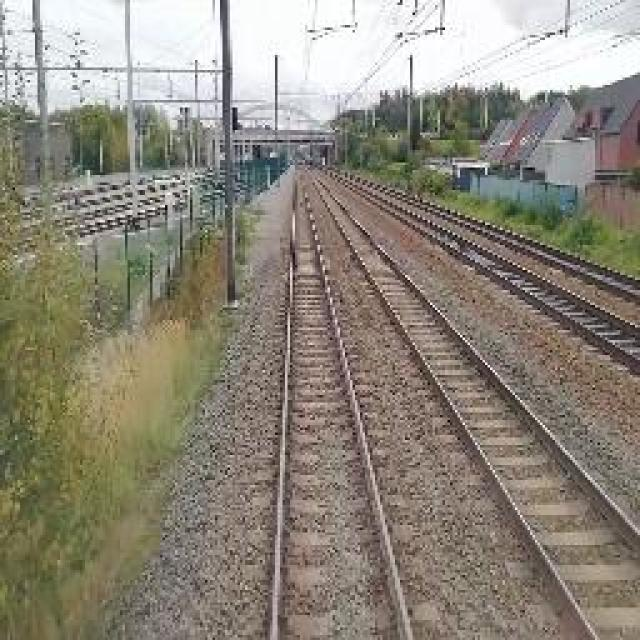rail: (242, 168, 437, 640)
